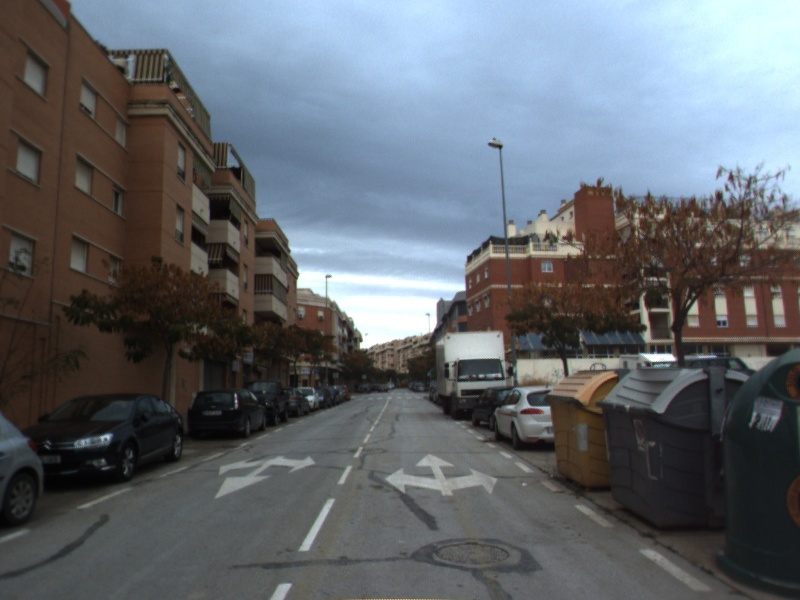STRAIGHT_LEFT_RIGHT: (383, 451, 500, 498)
